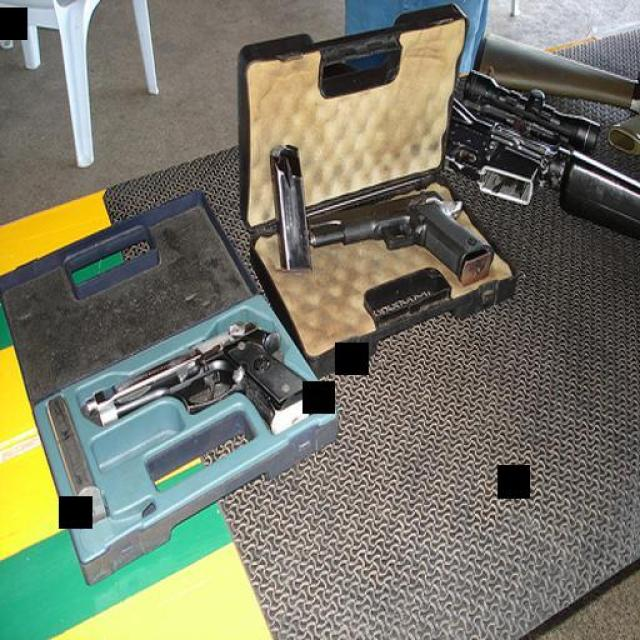gun: (85, 314, 315, 434), (306, 188, 492, 284)
